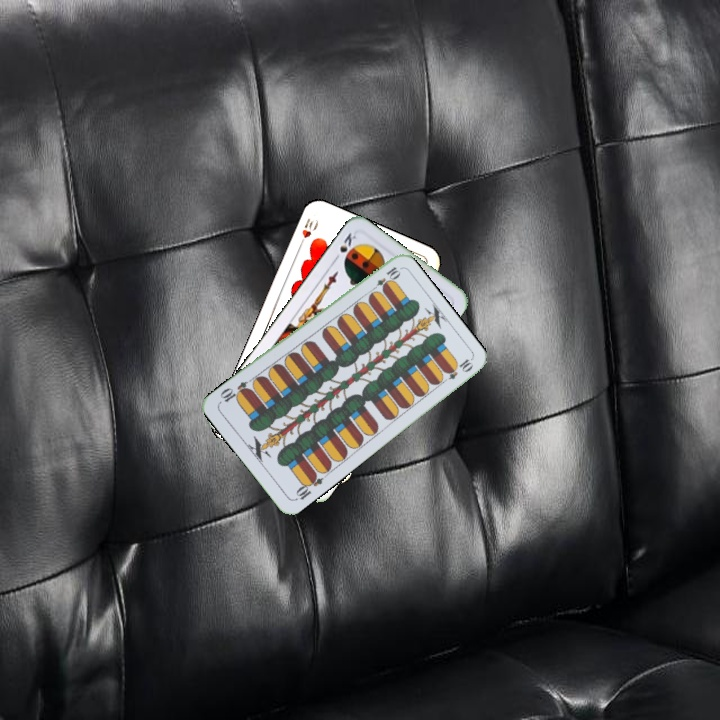E10: (291, 469, 326, 503), (367, 262, 402, 295)
H10: (295, 214, 321, 250)
SK: (329, 228, 359, 264)
